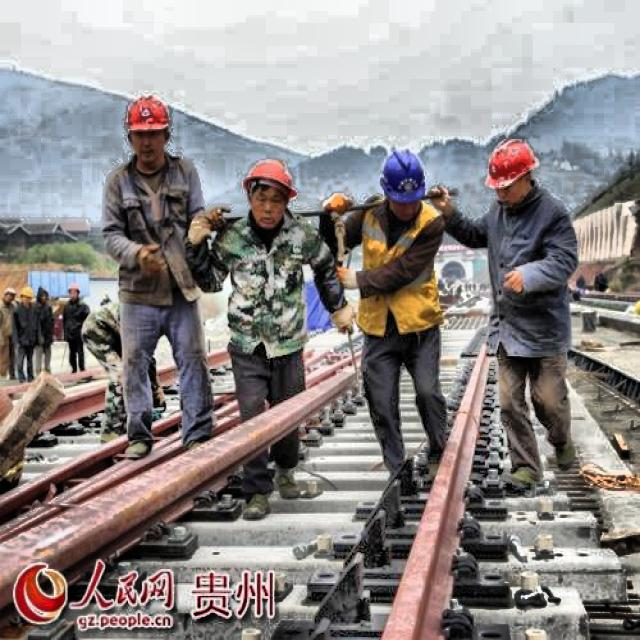helmet: (237, 150, 301, 232), (482, 134, 542, 208), (122, 91, 174, 172), (379, 148, 426, 222)
